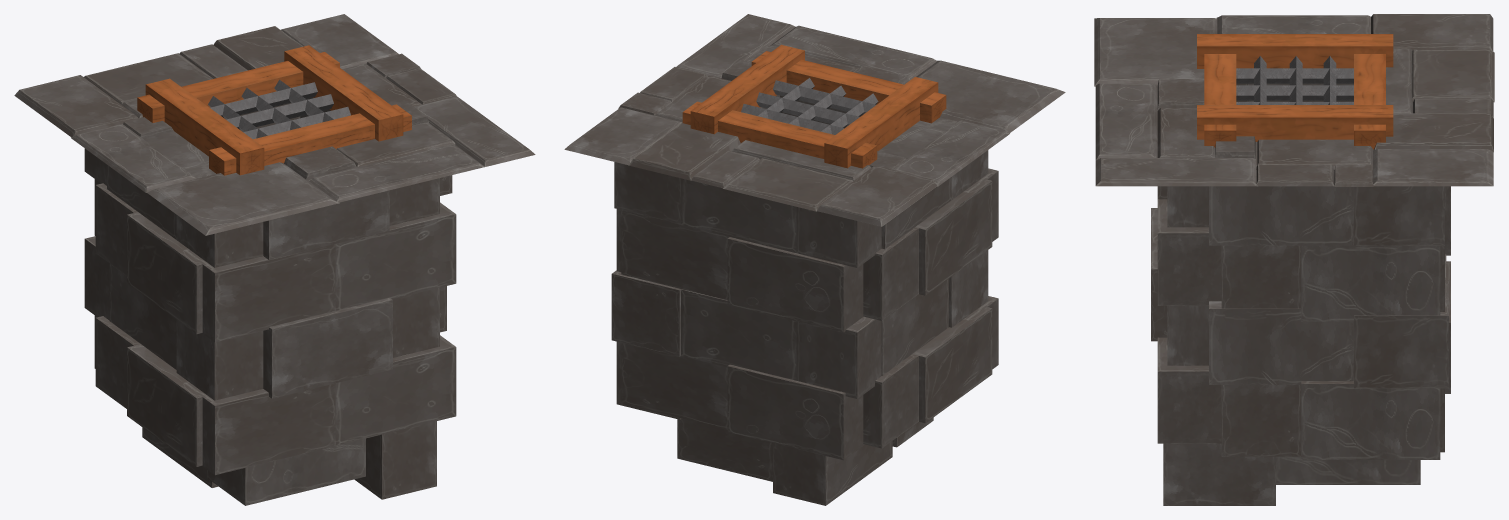
File: Drains.fbx
3 views of the same model, side by side, from view 1: azimuth 30°, elevation 25°; view 2: azimuth 150°, elevation 25°; view 3: azimuth 270°, elevation 25° (orthographic). The views are drawn at different scales.
Visible parts, largest first — view 1: Floor_Gate__2_; view 2: Floor_Gate__2_; view 3: Floor_Gate__2_.
Part boxes in pixels (<box>): Floor_Gate__2_: <box>14,14,535,505</box>; Floor_Gate__2_: <box>564,14,1065,505</box>; Floor_Gate__2_: <box>1094,14,1494,505</box>.
Bounding box in the file's own units: 2.04 × 2.13 × 2.04.
